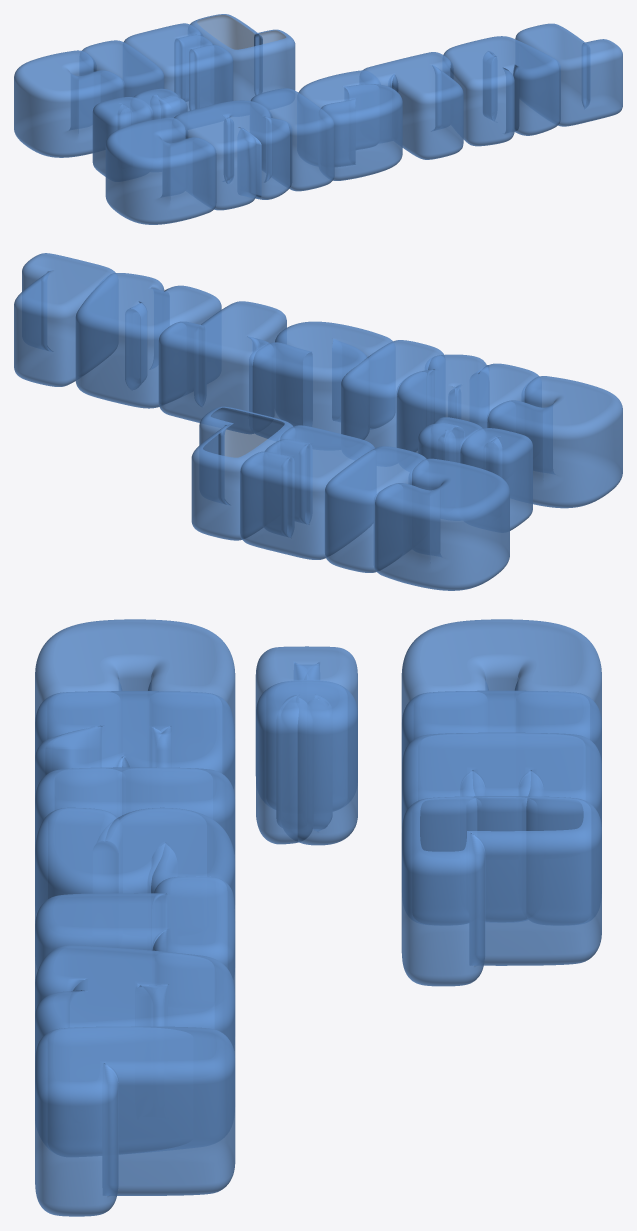
File: ciel-de-cristal.glb
3 views of the same model, one above another, from view 1: azimuth 30°, elevation 25°; view 2: azimuth 150°, elevation 25°; view 3: azimuth 270°, elevation 25° (orthographic). The views are drawn at different scales.
Visible parts, largest first — view 1: Text.034, Text.038, Text.036, Text.040, Text.042, Text.008, Text.010, Text.039, Text.011, Text.037, Text.009, Text.025 (+24 smaller); view 2: Text.008, Text.010, Text.038, Text.040, Text.039, Text.034, Text.042, Text.011, Text.009, Text.036, Text.037, Text.025 (+25 smaller); view 3: Text.011, Text.042, Text.040, Text.010, Text.034, Text.008, Text.036, Text.018, Text.009, Text.039, Text.037, Text.038 (+18 smaller).
Part boxes in pixels (x1,y1,x2,y2): Text.034: (105, 117, 216, 224); Text.038: (297, 70, 402, 180); Text.036: (172, 100, 291, 210); Text.040: (442, 36, 560, 146); Text.042: (515, 23, 622, 126); Text.008: (14, 50, 124, 157); Text.010: (123, 23, 232, 111); Text.039: (359, 52, 463, 159); Text.011: (188, 14, 295, 103); Text.037: (250, 88, 334, 191); Text.009: (79, 40, 164, 101); Text.025: (181, 101, 283, 142); Text.008: (374, 458, 509, 590); Text.010: (240, 425, 376, 559); Text.038: (249, 321, 395, 439); Text.040: (75, 273, 221, 408); Text.039: (158, 301, 286, 433); Text.034: (487, 376, 622, 508); Text.042: (14, 253, 118, 386); Text.011: (191, 406, 295, 540); Text.009: (325, 446, 429, 572); Text.036: (396, 354, 541, 453); Text.037: (341, 340, 444, 451); Text.025: (407, 355, 530, 407); Text.011: (401, 796, 601, 986); Text.042: (35, 1026, 235, 1216); Text.040: (35, 945, 235, 1156); Text.010: (401, 732, 601, 925); Text.034: (35, 619, 235, 772); Text.008: (401, 619, 601, 738); Text.036: (35, 691, 235, 818); Text.018: (256, 680, 357, 845); Text.009: (401, 690, 601, 799); Text.039: (35, 876, 235, 1028); Text.037: (35, 767, 235, 898); Text.038: (35, 807, 235, 967).
Bounding box in the file's own units: 6.15 × 0.8 × 3.09.
